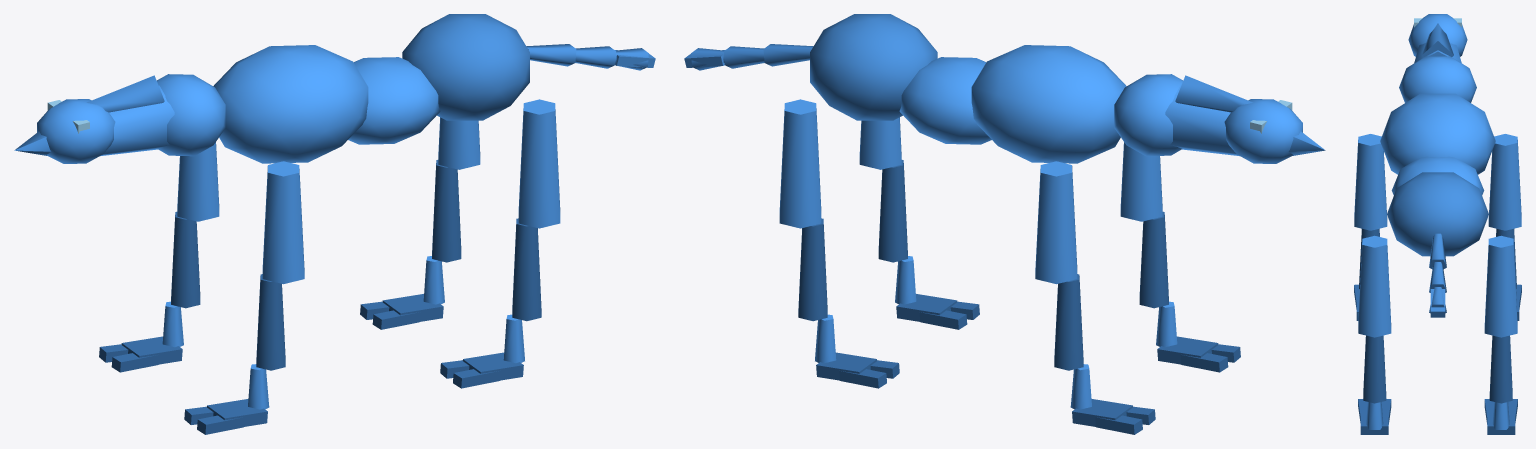
Rendered from previous-proxy.glb.
3 renders of one model, left to right at view 1: azimuth 30°, elevation 25°; view 2: azimuth 150°, elevation 25°; view 3: azimuth 270°, elevation 25°, orthographic. The views are drawn at different scales.
Visible parts, largest first — view 1: previous_chest, previous_upper (×4), previous_pelvis, previous_lower (×4), previous_waistPart, previous_collar, previous_footPart (×4), previous_headPart, previous_cannon (×4), previous_neck, previous_toes (×4), previous_tailParts (×2) (+1 smaller); view 2: previous_chest, previous_upper (×4), previous_pelvis, previous_lower (×4), previous_waistPart, previous_collar, previous_footPart (×4), previous_headPart, previous_cannon (×4), previous_neck, previous_toes (×4), previous_tailParts (×2) (+1 smaller); view 3: previous_upper (×4), previous_chest, previous_pelvis, previous_lower (×4), previous_collar, previous_waistPart, previous_headPart, previous_tailParts (×3), previous_footPart (×2), previous_cannon (×2), previous_crest, previous_neck (+1 smaller).
Part boxes in pixels (x1,y1,x2,y2): previous_chest: (213, 45, 368, 163); previous_upper (×4): (177, 99, 560, 284); previous_pelvis: (402, 14, 529, 120); previous_lower (×4): (171, 160, 541, 370); previous_waistPart: (348, 57, 440, 144); previous_collar: (157, 74, 225, 156); previous_footPart (×4): (121, 294, 523, 426); previous_headPart: (37, 99, 115, 163); previous_cannon (×4): (162, 256, 524, 409); previous_neck: (100, 85, 174, 156); previous_toes (×4): (111, 310, 500, 434); previous_tailParts (×2): (526, 44, 616, 68); previous_chest: (971, 45, 1126, 163); previous_upper (×4): (779, 99, 1162, 284); previous_pelvis: (810, 14, 937, 120); previous_lower (×4): (798, 160, 1168, 370); previous_waistPart: (899, 57, 991, 144); previous_collar: (1114, 74, 1182, 156); previous_footPart (×4): (816, 294, 1218, 426); previous_headPart: (1224, 99, 1302, 163); previous_cannon (×4): (815, 256, 1177, 409); previous_neck: (1165, 85, 1239, 156); previous_toes (×4): (839, 310, 1228, 434); previous_tailParts (×2): (723, 44, 813, 68); previous_upper (×4): (1354, 134, 1521, 337); previous_chest: (1380, 93, 1495, 174); previous_pelvis: (1387, 172, 1488, 256); previous_lower (×4): (1359, 228, 1516, 403); previous_collar: (1399, 56, 1476, 102); previous_waistPart: (1391, 156, 1484, 195); previous_headPart: (1408, 14, 1467, 56); previous_tailParts (×3): (1429, 233, 1446, 313); previous_footPart (×2): (1360, 406, 1515, 434); previous_cannon (×2): (1366, 402, 1509, 429); previous_crest: (1422, 23, 1453, 56); previous_neck: (1414, 43, 1461, 62).
Bounding box in the file's own units: 4.31 × 2.22 × 1.25.
